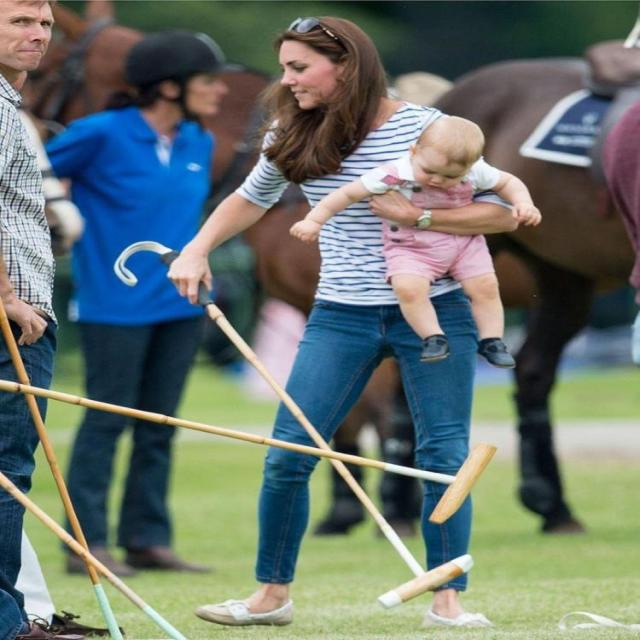Manusia: (221, 9, 511, 625), (0, 0, 84, 640)
